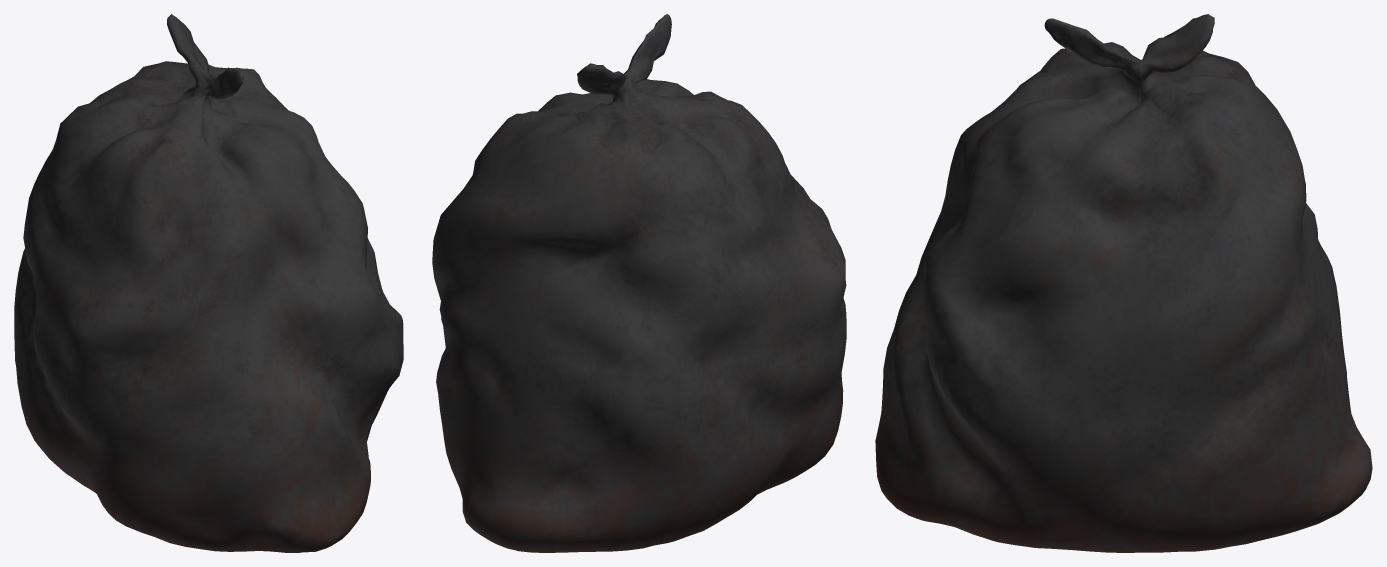
The model's file is maya2sketchfab.fbx.
3 renders of one model, left to right at view 1: azimuth 30°, elevation 25°; view 2: azimuth 150°, elevation 25°; view 3: azimuth 270°, elevation 25°, orthographic. The views are drawn at different scales.
Visible parts, largest first — view 1: bingbagnew_1; view 2: bingbagnew_1; view 3: bingbagnew_1.
Part boxes in pixels (x1=…): bingbagnew_1: x1=14, y1=14, x2=403, y2=552; bingbagnew_1: x1=432, y1=14, x2=846, y2=552; bingbagnew_1: x1=875, y1=14, x2=1372, y2=552.
Bounding box in the file's own units: 49.24 × 65.45 × 58.47.
Materials: 1 (1 with a texture image).
